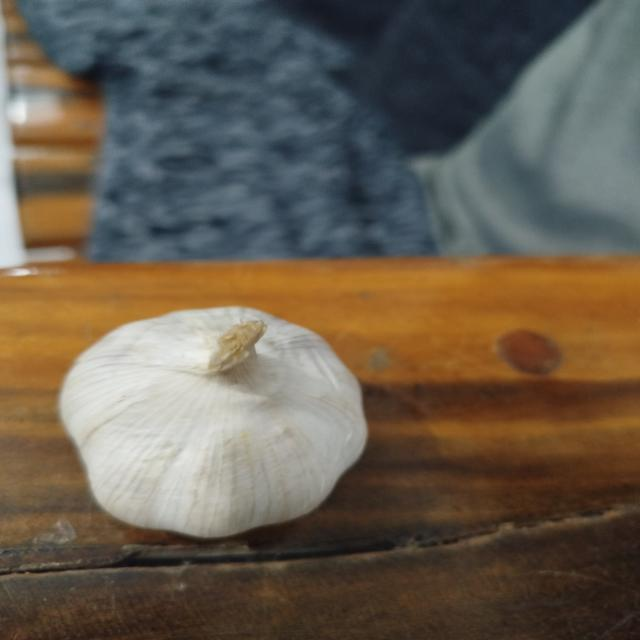garlic: (58, 305, 369, 540)
